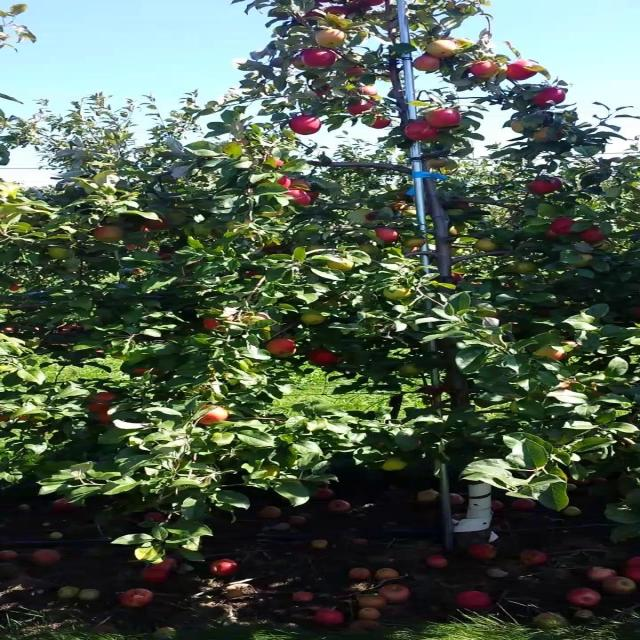apple: (404, 120, 441, 142), (504, 60, 540, 82), (198, 404, 231, 427), (532, 88, 569, 108), (426, 108, 462, 128), (305, 48, 341, 68), (468, 60, 503, 80), (426, 40, 460, 60), (291, 116, 324, 136), (84, 404, 114, 424), (319, 28, 348, 48), (92, 228, 126, 244), (269, 340, 299, 357), (84, 404, 114, 420), (412, 56, 441, 72), (348, 100, 377, 116), (532, 128, 565, 142), (532, 348, 567, 360), (284, 192, 313, 206), (312, 352, 340, 366), (383, 456, 407, 472), (376, 228, 400, 244), (92, 408, 114, 425), (326, 260, 356, 272), (554, 220, 576, 236), (582, 228, 604, 244), (383, 288, 412, 300), (397, 364, 423, 377), (532, 180, 553, 196), (49, 248, 75, 260), (568, 256, 594, 268), (298, 12, 324, 24), (476, 240, 500, 252), (369, 116, 391, 129), (305, 312, 327, 325), (312, 84, 334, 97), (404, 236, 427, 248), (148, 220, 171, 232), (92, 392, 119, 402), (291, 56, 311, 69), (205, 320, 226, 332), (262, 464, 281, 477), (518, 264, 540, 275), (561, 340, 583, 351), (134, 368, 164, 376), (554, 380, 574, 392), (447, 272, 464, 285), (426, 160, 450, 169), (362, 84, 377, 98), (348, 68, 370, 77), (291, 180, 313, 189), (262, 208, 284, 217), (511, 120, 526, 133), (326, 8, 350, 16), (276, 176, 292, 188), (269, 156, 284, 168), (547, 180, 562, 191), (404, 208, 420, 218), (248, 316, 270, 323), (390, 204, 409, 212), (397, 192, 412, 202), (454, 200, 469, 209), (547, 232, 562, 240), (454, 272, 464, 284), (13, 416, 32, 422), (397, 192, 411, 200), (540, 312, 555, 319), (349, 4, 366, 10), (454, 228, 466, 236), (369, 212, 380, 220), (248, 272, 263, 277), (312, 192, 320, 200), (13, 284, 21, 292), (364, 4, 379, 7), (6, 328, 16, 332), (141, 228, 151, 232)
